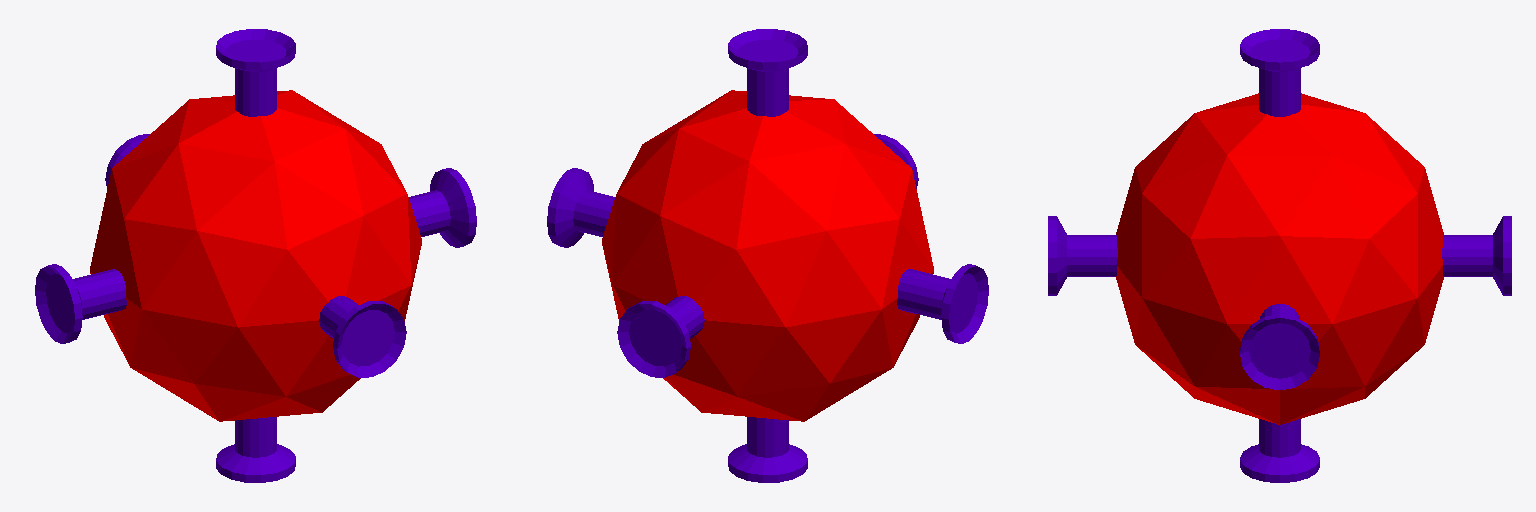
The model's file is virus.obj.
3 renders of one model, left to right at view 1: azimuth 30°, elevation 25°; view 2: azimuth 150°, elevation 25°; view 3: azimuth 270°, elevation 25°, orthographic.
Parts seen in each view (by area): view 1: Virus; view 2: Virus; view 3: Virus.
Boxes of the visible parts, <box> form: Virus: <box>35,29,476,482</box>; Virus: <box>547,29,988,482</box>; Virus: <box>1048,29,1511,482</box>.
Size of the model in its own units: 32.22 by 32.22 by 32.22.